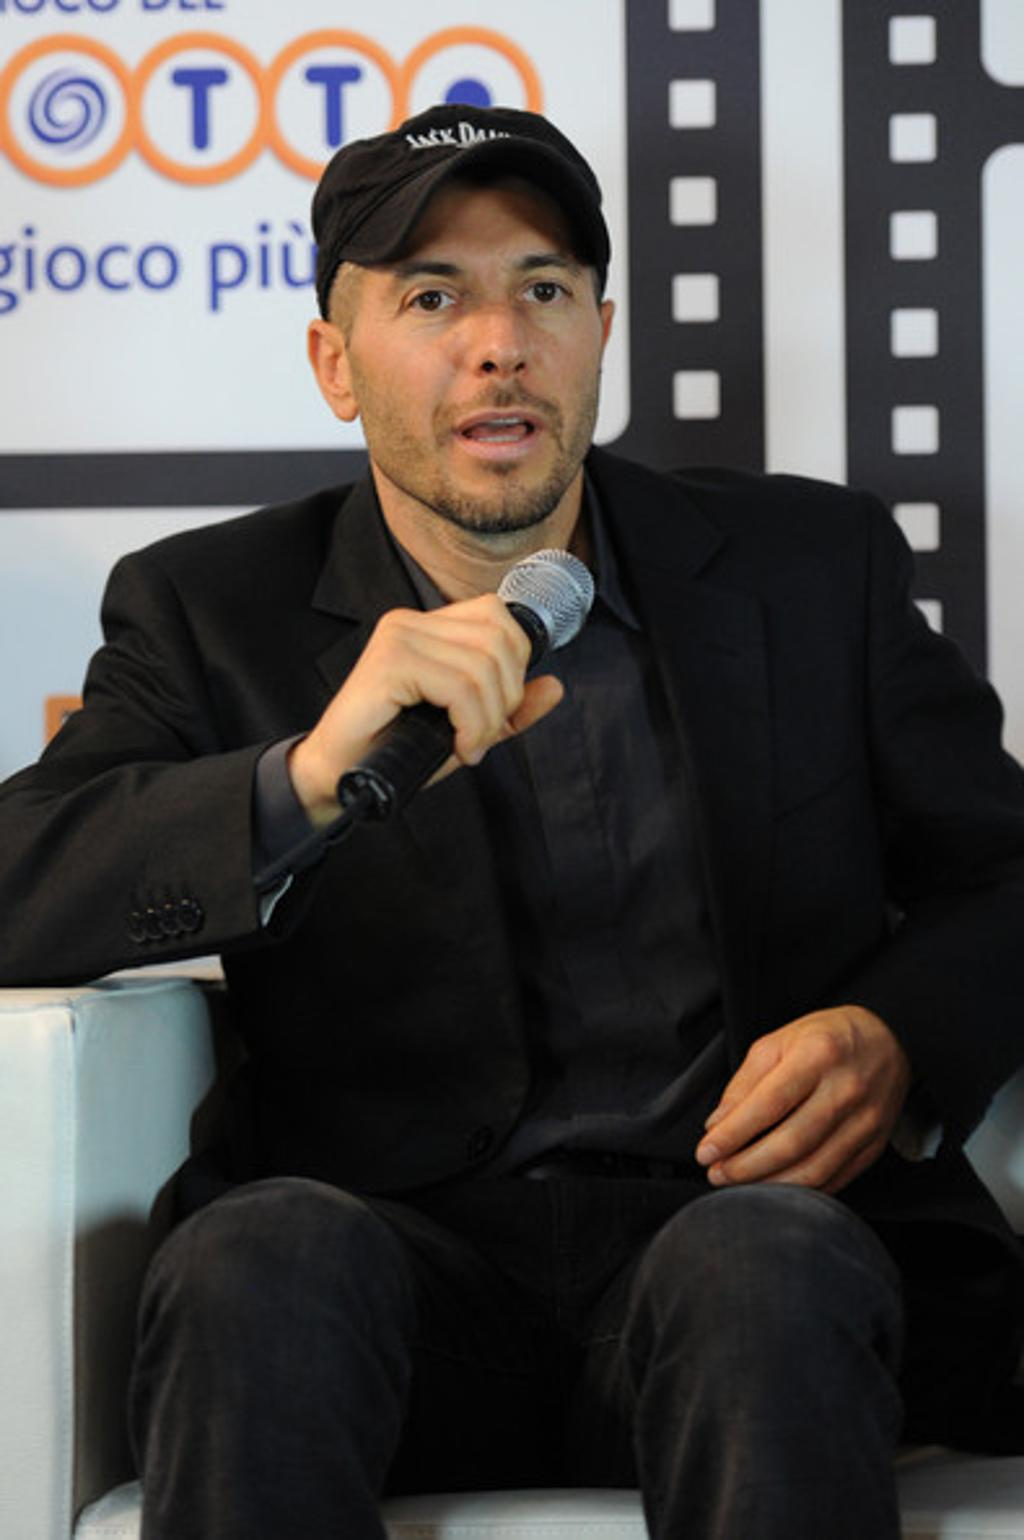face: (352, 145, 608, 527)
